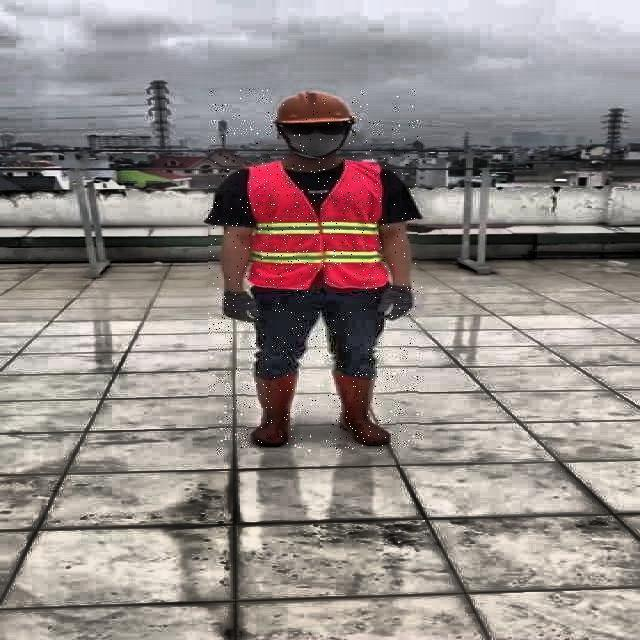safety_helmet: (272, 90, 357, 126)
safety_jacket: (245, 165, 386, 290)
